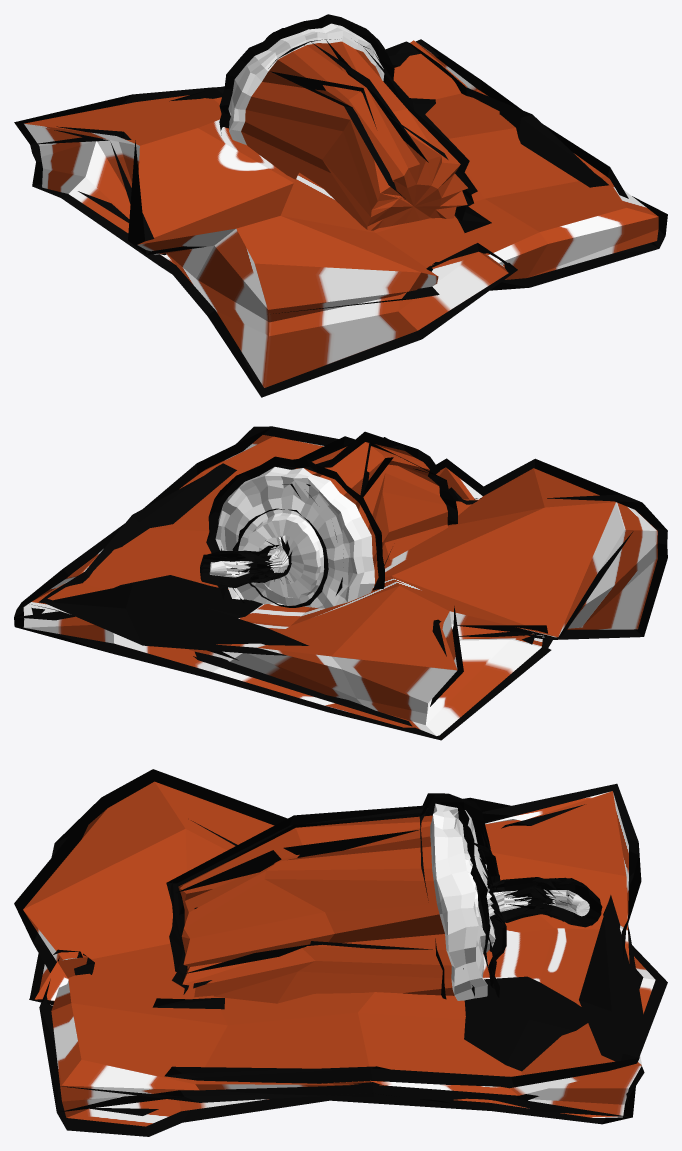
File: Lixo.fbx
3 views of the same model, one above another, from view 1: azimuth 30°, elevation 25°; view 2: azimuth 150°, elevation 25°; view 3: azimuth 270°, elevation 25° (orthographic). The views are drawn at different scales.
Parts seen in each view (by area): view 1: lixo, backfacelixo; view 2: lixo, backfacelixo; view 3: lixo, backfacelixo.
Boxes of the visible parts, x1,y1,x2,y2 form: lixo: (24,23,658,387); backfacelixo: (14,14,667,397); lixo: (23,435,657,735); backfacelixo: (14,426,667,740); lixo: (23,781,655,1126); backfacelixo: (14,769,667,1136).
Size of the model in its own units: 0.7779 by 0.7777 by 0.3696.
Materials: 3 (2 with a texture image).
